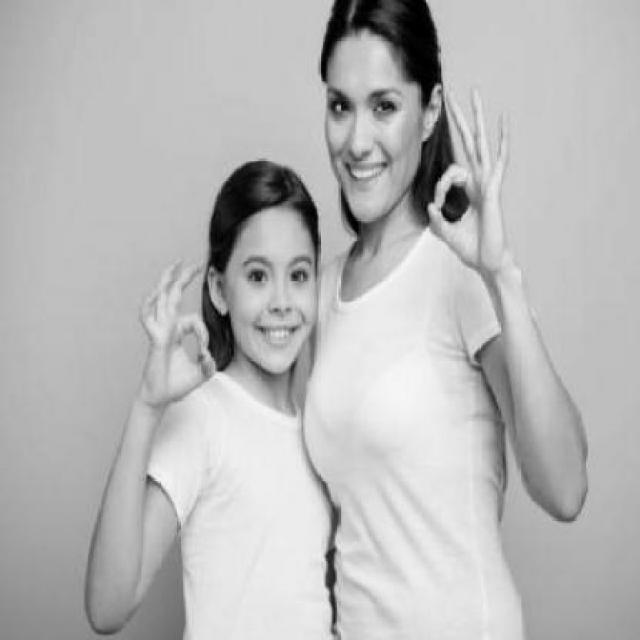happy: (240, 244, 317, 356)
